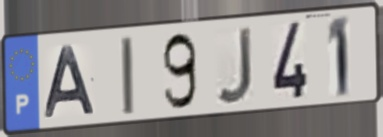1: (325, 15, 352, 99)
4: (269, 19, 310, 103)
9: (159, 30, 199, 112)
A: (42, 43, 99, 121)
I: (118, 34, 137, 118)
J: (214, 24, 255, 107)
